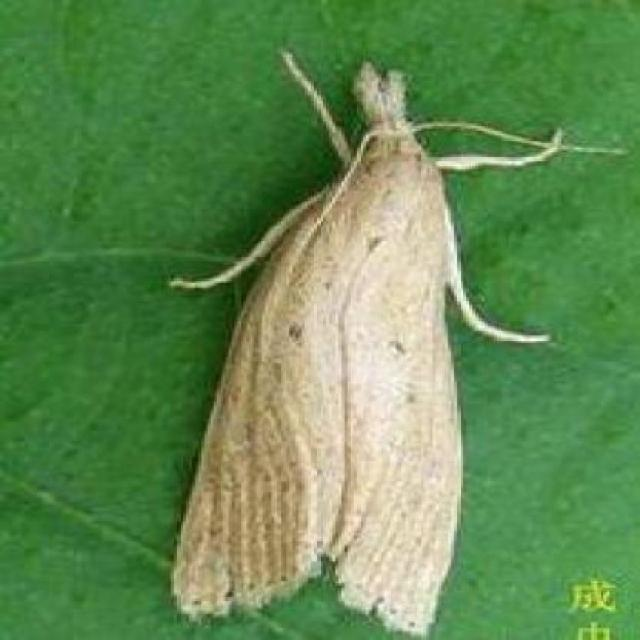stem-borer: (166, 43, 560, 640)
